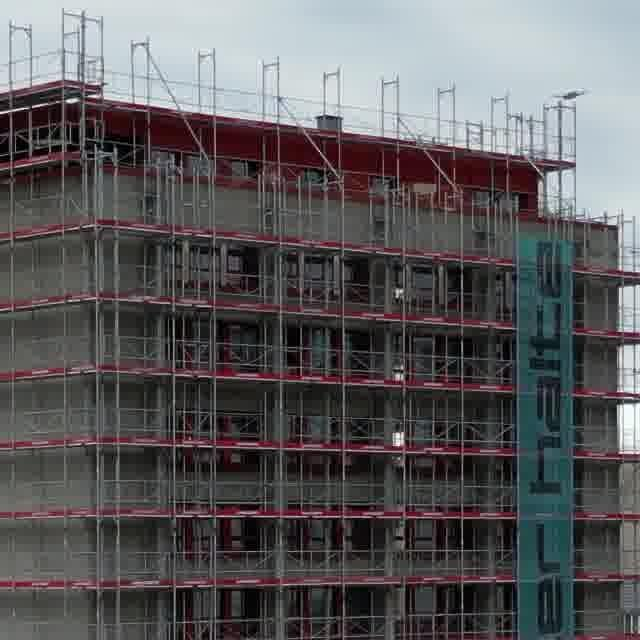Drohne: (555, 90, 584, 99)
